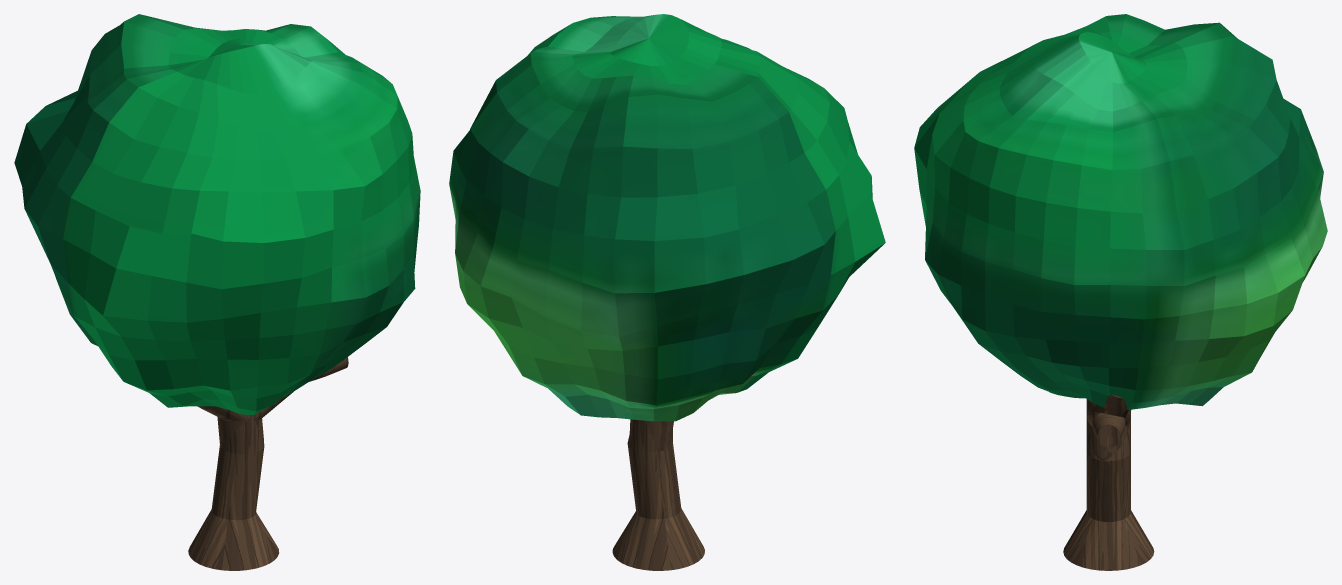
The model's file is tree3.fbx.
3 views of the same model, side by side, from view 1: azimuth 30°, elevation 25°; view 2: azimuth 150°, elevation 25°; view 3: azimuth 270°, elevation 25° (orthographic).
Parts seen in each view (by area): view 1: leafs3, tree3; view 2: leafs3, tree3; view 3: leafs3, tree3.
Part boxes in pixels (x1,y1,x2,y2): leafs3: (14, 14, 420, 415); tree3: (188, 357, 348, 570); leafs3: (449, 14, 885, 421); tree3: (612, 419, 704, 570); leafs3: (914, 14, 1327, 409); tree3: (1063, 394, 1154, 570).
Size of the model in its own units: 1803 by 2555 by 1858.
